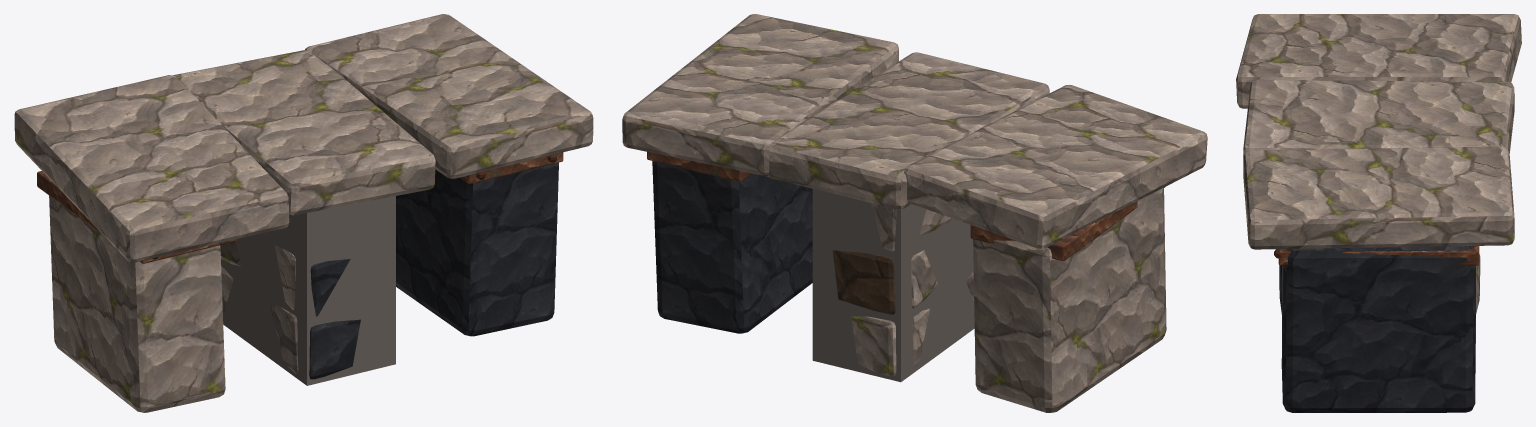
Rendered from stone_table.glb.
3 renders of one model, left to right at view 1: azimuth 30°, elevation 25°; view 2: azimuth 150°, elevation 25°; view 3: azimuth 270°, elevation 25°, orthographic. The views are drawn at different scales.
Parts seen in each view (by area): view 1: model; view 2: model; view 3: model.
Part boxes in pixels (x1,y1,x2,y2): model: [14, 14, 593, 412]; model: [622, 14, 1207, 412]; model: [1236, 14, 1521, 412].
Size of the model in its own units: 1.57 by 0.7524 by 0.8843.
Materials: 8 (7 with a texture image).
